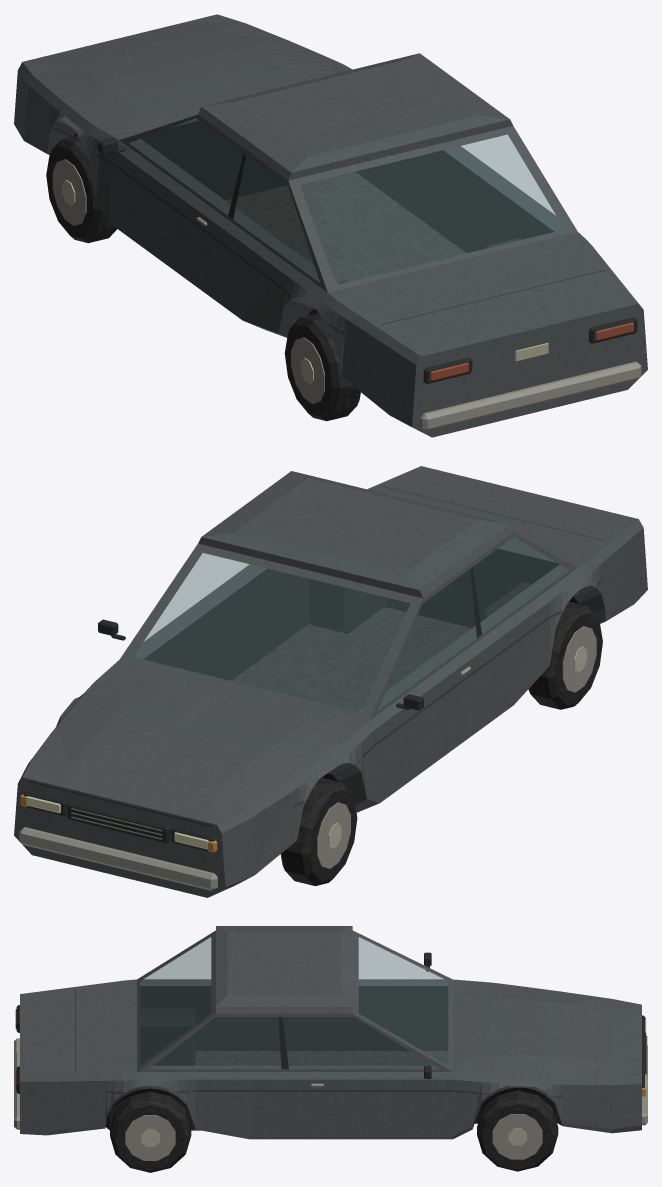
File: vehicle_town.glb
The picture shows the model from 3 angles, top to bottom: view 1: azimuth 30°, elevation 25°; view 2: azimuth 150°, elevation 25°; view 3: azimuth 270°, elevation 25°; orthographic projection. The views are drawn at different scales.
Visible parts, largest first — view 1: closed_body, glazing, roof_body; view 2: closed_body, glazing, roof_body; view 3: closed_body, glazing, roof_body.
Part boxes in pixels (x1,y1,x2,y2): closed_body: (14, 14, 647, 437); glazing: (129, 118, 564, 284); roof_body: (198, 53, 512, 180); closed_body: (14, 466, 647, 897); glazing: (134, 536, 568, 712); roof_body: (198, 471, 512, 598); closed_body: (14, 930, 647, 1172); glazing: (140, 937, 448, 1069); roof_body: (216, 926, 352, 1013).
Bounding box in the file's own units: 2.22 × 1.4 × 4.99.
Materials: 2 (2 with a texture image).
